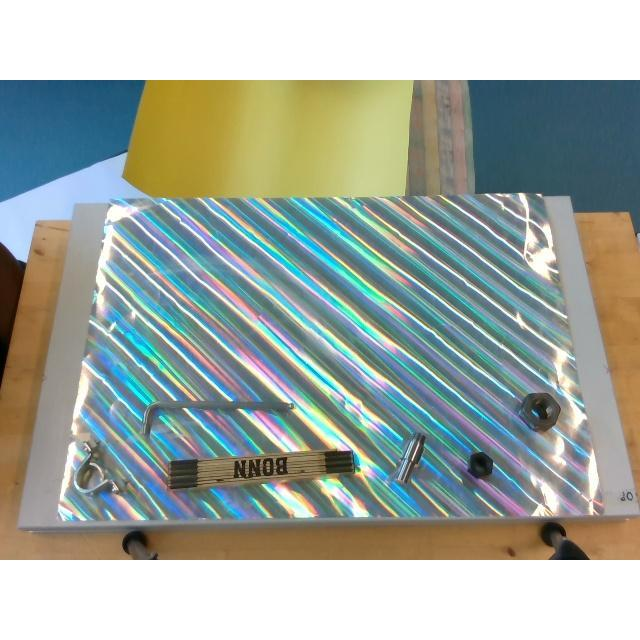AllenKey: (142, 400, 294, 438)
Axis2: (392, 432, 424, 483)
Housing: (72, 441, 120, 493)
M20: (468, 450, 492, 478)
M30: (518, 392, 560, 432)
